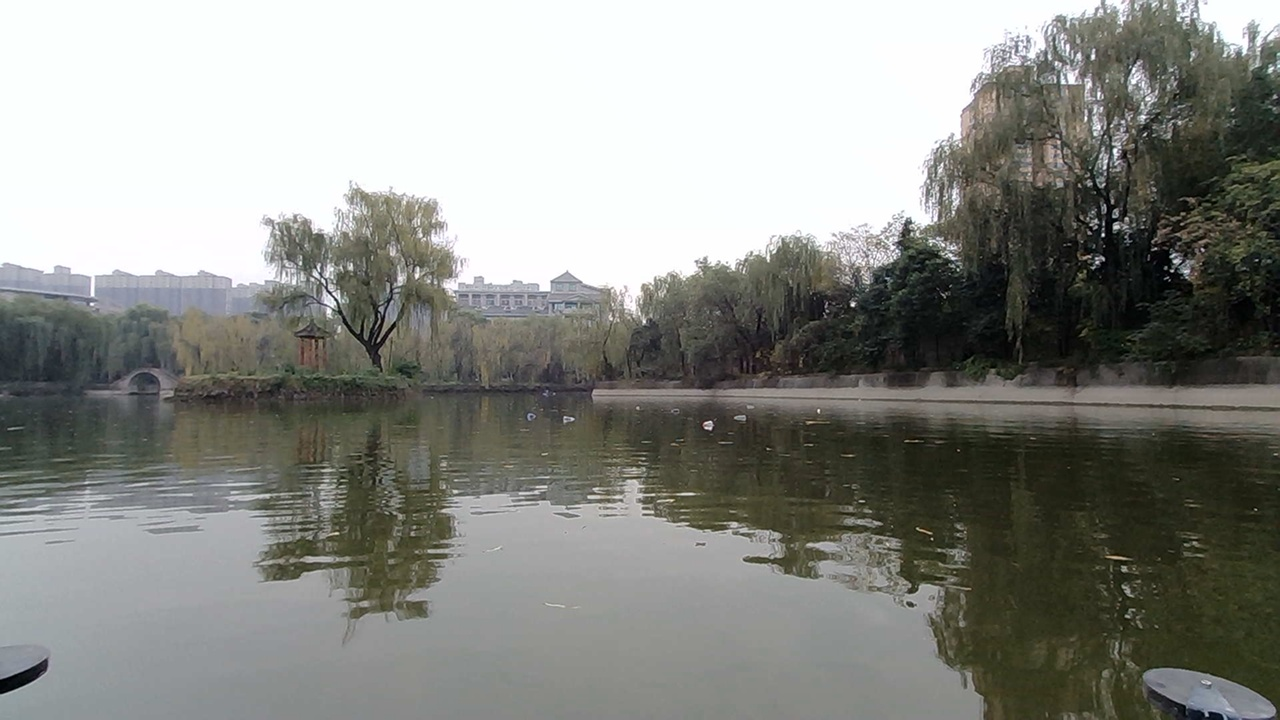bottle: (518, 399, 546, 429), (811, 399, 840, 426), (666, 397, 696, 421), (618, 394, 644, 416), (561, 405, 583, 427), (697, 416, 721, 435), (732, 407, 755, 424)
